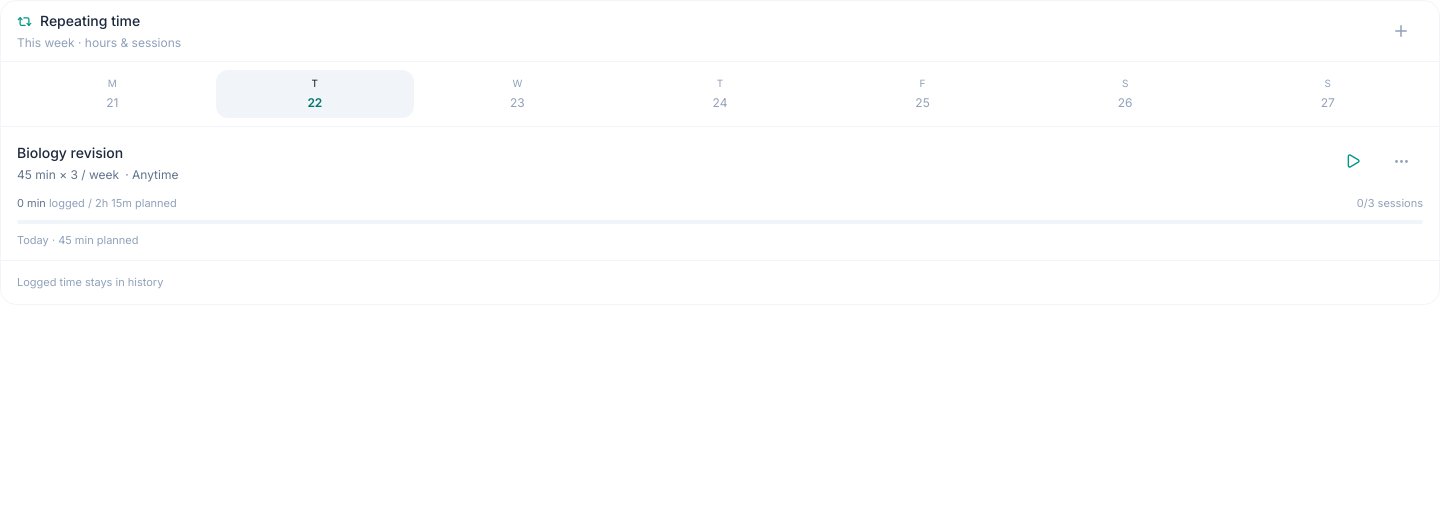
Scenario: repeating time overview › keeps failed writes visible and the action available
Click the button named "Options for Biology revision".
click(1401, 161)  # box [1379,139,1423,183]
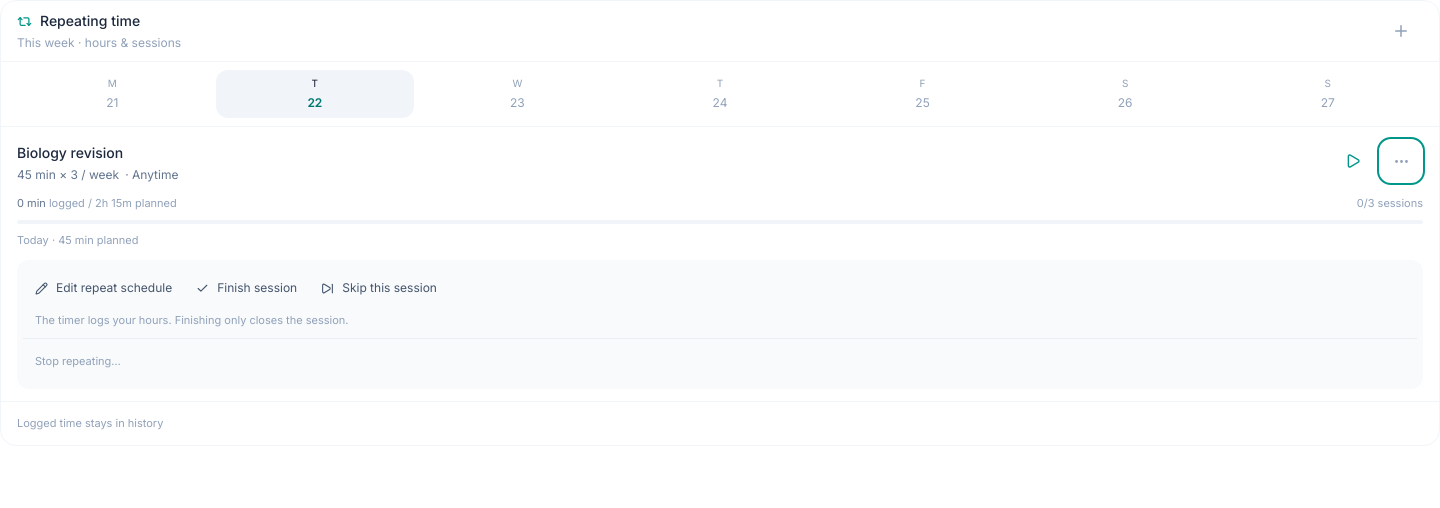
Click the button "Finish session".
click(247, 288)  # box [184,266,309,310]
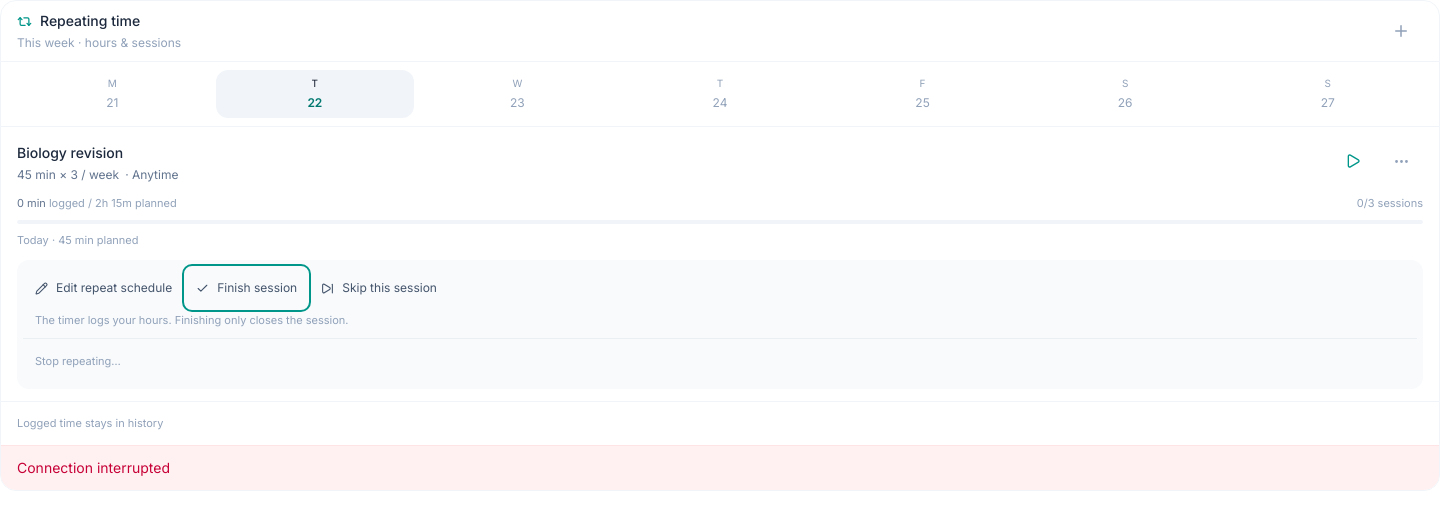
Expected: the button "Finish session" is shown, [184,266,309,310]
Expected: the message reads "Connection interrupted", [17,459,170,476]
